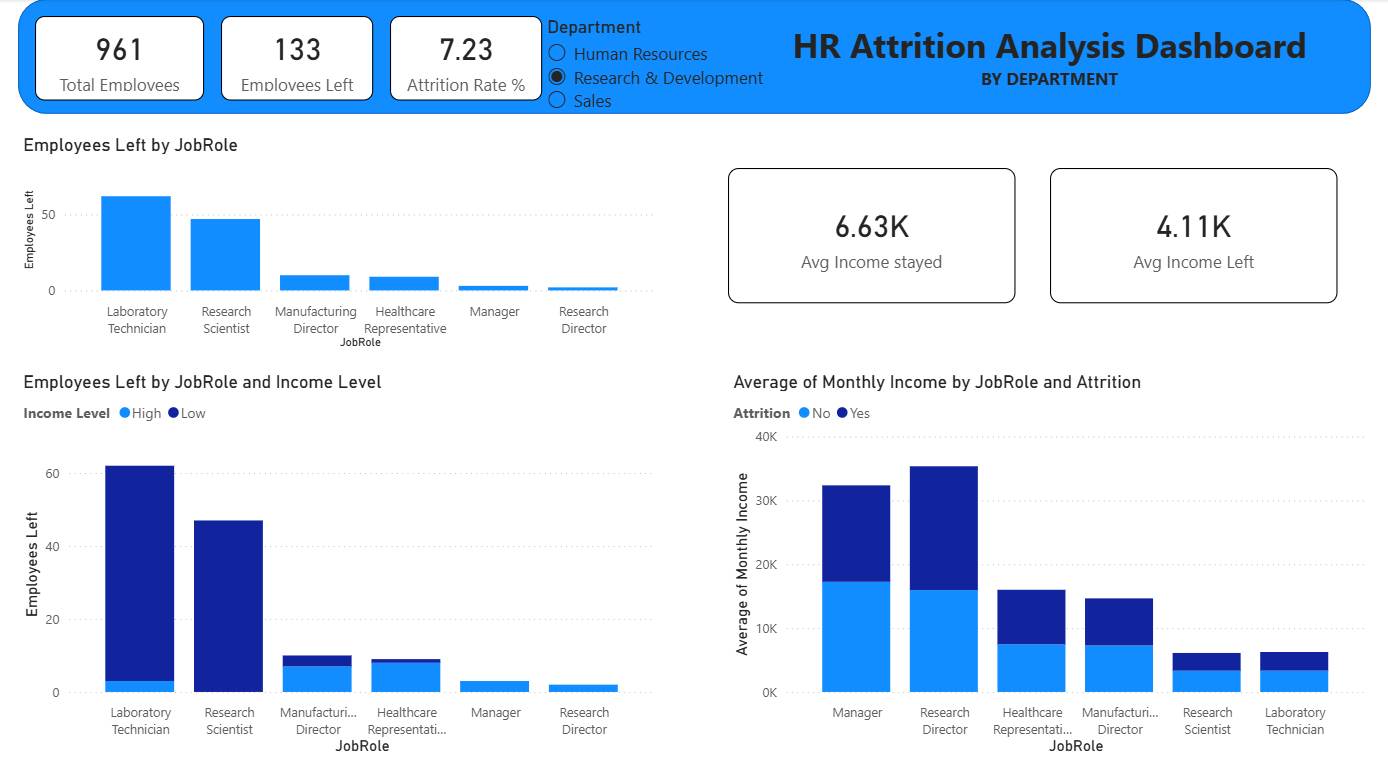

What the dashboard file says about the page in this screenshot:
{"tool":"powerbi","page":{"name":"Detailed","canvas":[1280,720],"ordinal":1},"visuals":[{"type":"group","id":"g1","title":"TITLE KPI","box":[0,0,1280,224],"z":0},{"type":"shape","box":[0,0,1280,108.6],"z":0,"group":"g1"},{"type":"card","fields":{"Values":["WA_Fn_UseC__HR_Employee_Attrition__2.Employees Left"]},"box":[192,16,144,80],"z":1000,"group":"g1"},{"type":"columnChart","fields":{"Y":["WA_Fn_UseC__HR_Employee_Attrition__2.Employees Left"],"Category":["WA_Fn_UseC__HR_Employee_Attrition__2.JobRole"]},"box":[0,128,608,208],"z":1000},{"type":"listSlicer","fields":{"Values":["WA_Fn_UseC__HR_Employee_Attrition__2.Department"]},"box":[496,16,224,208],"z":1500,"group":"g1"},{"type":"card","fields":{"Values":["WA_Fn_UseC__HR_Employee_Attrition__2.Total Employees"]},"box":[16,16,160,80],"z":2000,"group":"g1"},{"type":"card","fields":{"Values":["WA_Fn_UseC__HR_Employee_Attrition__2.Attrition Rate %"]},"box":[352,16,144,80],"z":3000,"group":"g1"},{"type":"columnChart","fields":{"Y":["WA_Fn_UseC__HR_Employee_Attrition__2.Employees Left"],"Category":["WA_Fn_UseC__HR_Employee_Attrition__2.JobRole"],"Series":["WA_Fn_UseC__HR_Employee_Attrition__2.Income Level"]},"box":[0,352,608,368],"z":3000},{"type":"card","fields":{"Values":["WA_Fn_UseC__HR_Employee_Attrition__2.Avg Income Left"]},"box":[976,160,272,128],"z":3001},{"type":"card","fields":{"Values":["WA_Fn_UseC__HR_Employee_Attrition__2.Avg Income stayed"]},"box":[672,160,272,128],"z":3002},{"type":"columnChart","fields":{"Category":["WA_Fn_UseC__HR_Employee_Attrition__2.JobRole"],"Y":["Avg(WA_Fn_UseC__HR_Employee_Attrition__2.Monthly Income)"],"Series":["WA_Fn_UseC__HR_Employee_Attrition__2.Attrition"]},"box":[672,352,608,368],"z":3003},{"type":"textbox","box":[720,16,512,80],"z":4000,"group":"g1"}]}

Visuals, with their boxes in screenshot pixels (x1, y1, x2, y2), scaled from the page's 1280x720 canvas onto the 1388x760 screenshot:
"TITLE KPI" group: (0, 0, 1387, 236)
shape: (0, 0, 1387, 115)
card - WA_Fn_UseC__HR_Employee_Attrition__2.Employees Left: (208, 17, 364, 101)
columnChart - WA_Fn_UseC__HR_Employee_Attrition__2.Employees Left x WA_Fn_UseC__HR_Employee_Attrition__2.JobRole: (0, 135, 659, 355)
listSlicer - WA_Fn_UseC__HR_Employee_Attrition__2.Department: (538, 17, 781, 236)
card - WA_Fn_UseC__HR_Employee_Attrition__2.Total Employees: (17, 17, 191, 101)
card - WA_Fn_UseC__HR_Employee_Attrition__2.Attrition Rate %: (382, 17, 538, 101)
columnChart - WA_Fn_UseC__HR_Employee_Attrition__2.Employees Left x WA_Fn_UseC__HR_Employee_Attrition__2.JobRole: (0, 372, 659, 759)
card - WA_Fn_UseC__HR_Employee_Attrition__2.Avg Income Left: (1058, 169, 1353, 304)
card - WA_Fn_UseC__HR_Employee_Attrition__2.Avg Income stayed: (729, 169, 1024, 304)
columnChart - WA_Fn_UseC__HR_Employee_Attrition__2.JobRole x Avg(WA_Fn_UseC__HR_Employee_Attrition__2.Monthly Income): (729, 372, 1387, 759)
textbox: (781, 17, 1336, 101)
